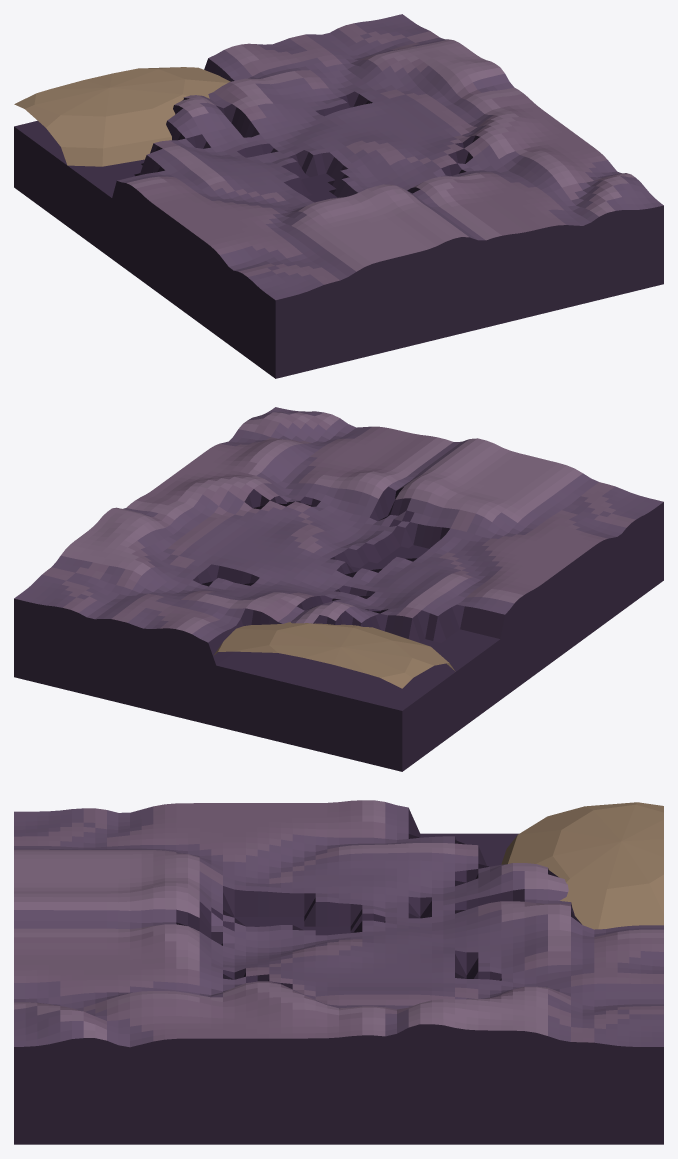
The picture shows the model from 3 angles, top to bottom: view 1: azimuth 30°, elevation 25°; view 2: azimuth 150°, elevation 25°; view 3: azimuth 270°, elevation 25°; orthographic projection. The views are drawn at different scales.
Parts seen in each view (by area): view 1: shapesz-t158; view 2: shapesz-t158; view 3: shapesz-t158.
Part boxes in pixels (<box>): shapesz-t158: <box>14,14,663,378</box>; shapesz-t158: <box>14,407,663,771</box>; shapesz-t158: <box>14,800,663,1144</box>.
Bounding box in the file's own units: 2 × 0.5 × 2.33.
